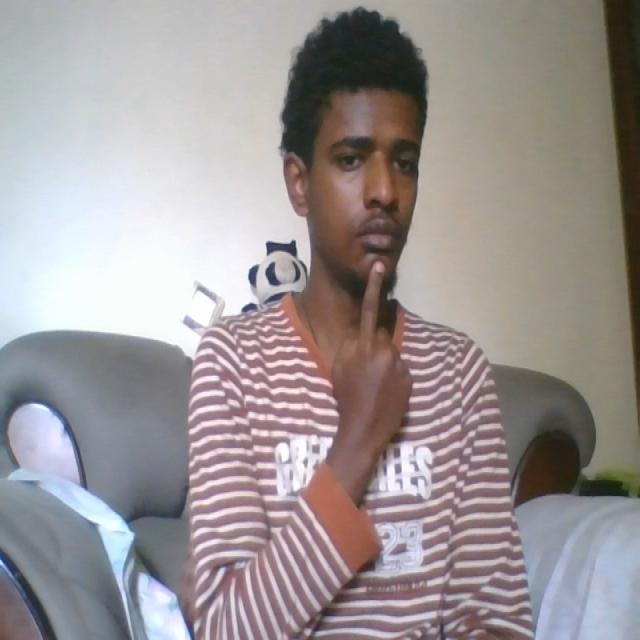lomi: (331, 242, 416, 449)
